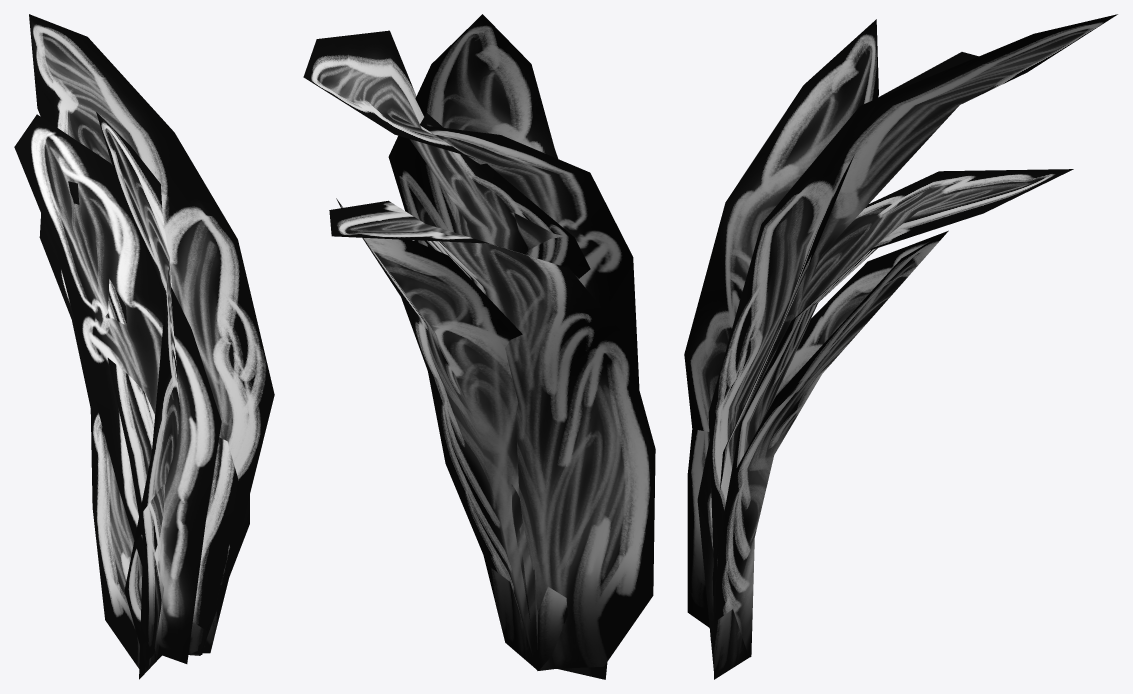
File: obj_leafSetA.fbx
3 renders of one model, left to right at view 1: azimuth 30°, elevation 25°; view 2: azimuth 150°, elevation 25°; view 3: azimuth 270°, elevation 25°, orthographic. The views are drawn at different scales.
Visible parts, largest first — view 1: leaf3, leaf2, leaf1, leaf4; view 2: leaf4, leaf5, leaf3, leaf1, leaf2; view 3: leaf3, leaf1, leaf5, leaf4, leaf2.
Part boxes in pixels (box(x1,y1,x2,y2)): leaf3: box(29, 14, 274, 660); leaf2: box(14, 114, 221, 679); leaf1: box(96, 112, 238, 669); leaf4: box(39, 213, 239, 668); leaf4: box(329, 200, 655, 668); leaf5: box(336, 198, 567, 670); leaf3: box(303, 30, 590, 669); leaf1: box(388, 14, 558, 670); leaf2: box(420, 113, 639, 679); leaf3: box(687, 14, 1117, 679); leaf1: box(684, 19, 878, 640); leaf5: box(715, 230, 948, 657); leaf4: box(713, 169, 1073, 654); leaf2: box(697, 52, 978, 670).
Bounding box in the file's own units: 24.92 × 72.93 × 43.12.
1 material, 1 textured.
